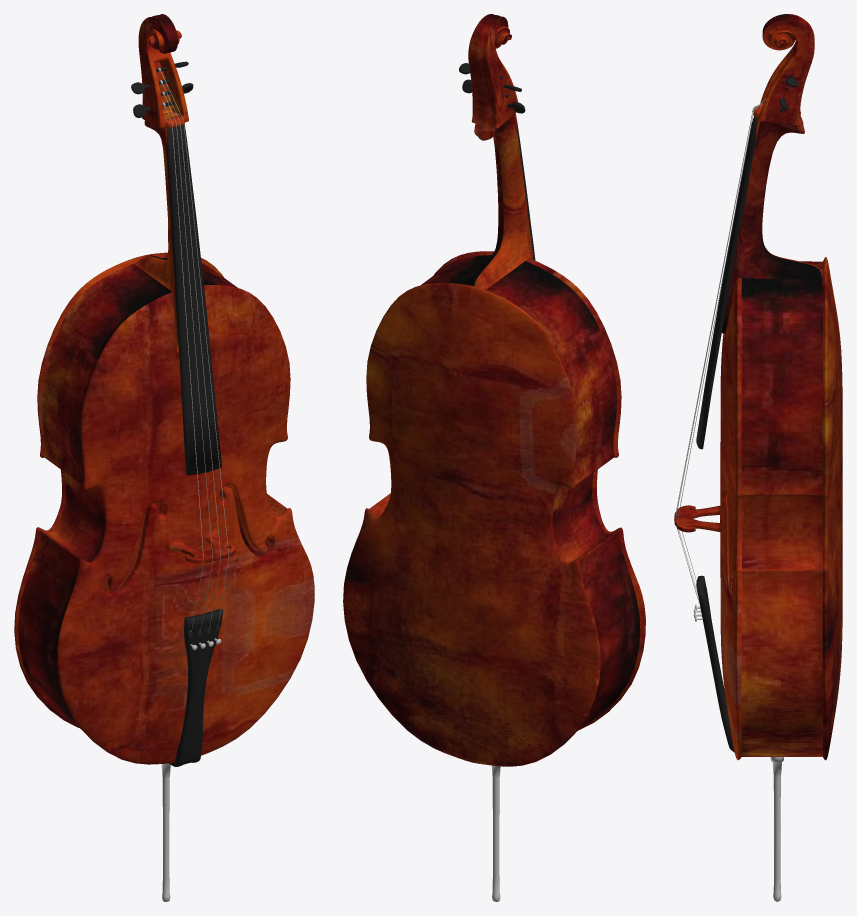
Rendered from cello.obj.
3 views of the same model, side by side, from view 1: azimuth 30°, elevation 25°; view 2: azimuth 150°, elevation 25°; view 3: azimuth 270°, elevation 25° (orthographic).
Visible parts, largest first — view 1: Mesh; view 2: Mesh; view 3: Mesh.
Boxes of the visible parts, x1,y1,x2,y2 form: Mesh: (14,14,314,901); Mesh: (343,14,645,901); Mesh: (674,14,842,901).
Bounding box in the file's own units: 1.41 × 4.62 × 0.7972.
Materials: 4 (1 with a texture image).
